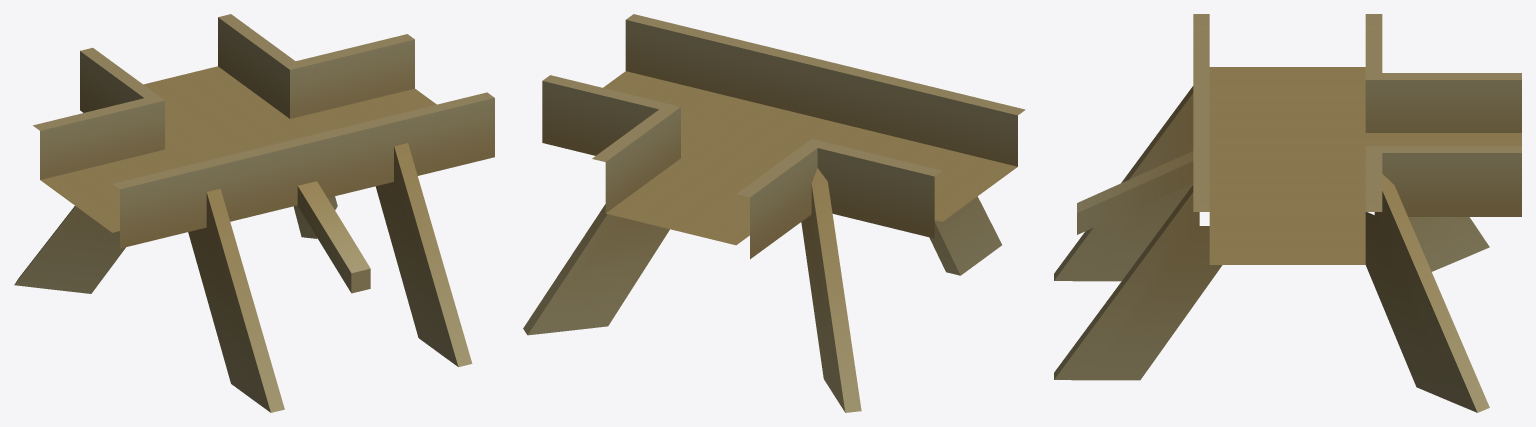
The model's file is aquaduct_piped4.glb.
3 renders of one model, left to right at view 1: azimuth 30°, elevation 25°; view 2: azimuth 150°, elevation 25°; view 3: azimuth 270°, elevation 25°, orthographic. The views are drawn at different scales.
Visible parts, largest first — view 1: AquaductPiped4; view 2: AquaductPiped4; view 3: AquaductPiped4.
Boxes of the visible parts, left/top/right/bottom form: AquaductPiped4: left=14, top=14, right=494, bottom=412; AquaductPiped4: left=523, top=14, right=1025, bottom=412; AquaductPiped4: left=1054, top=14, right=1521, bottom=412.
Size of the model in its own units: 2 by 1.01 by 2.
Materials: 1 (1 with a texture image).
